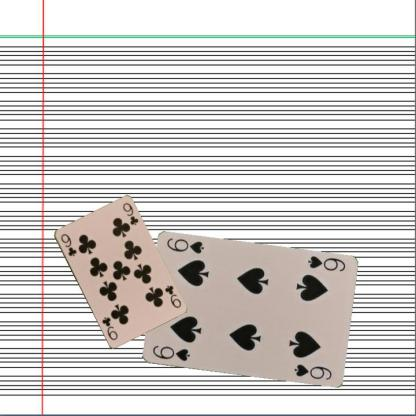6s: (305, 254, 347, 273), (150, 343, 191, 362)
9c: (162, 283, 182, 309), (58, 231, 77, 257)
